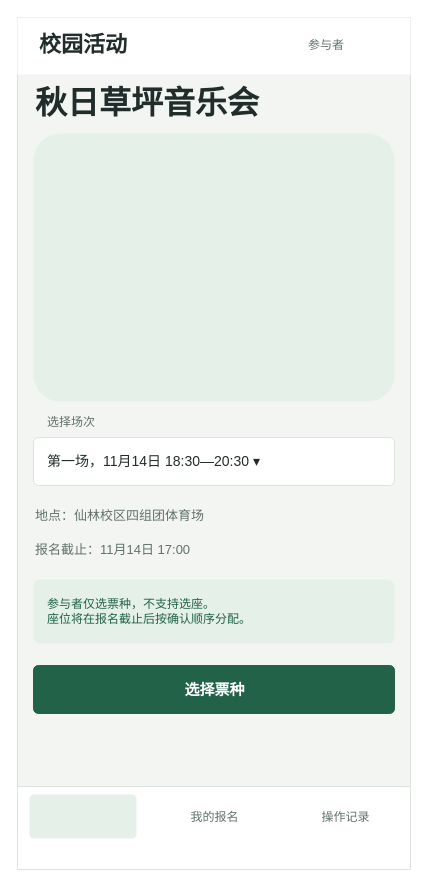
The diagram is 428 pixels wide and 887 high, and some of its shapes have lost their labels. Here are the shapes that lost their labels. From the top down, the centre of each, then its label:
At [213,267]: "活动简介".
At [82,816]: "发现活动".
